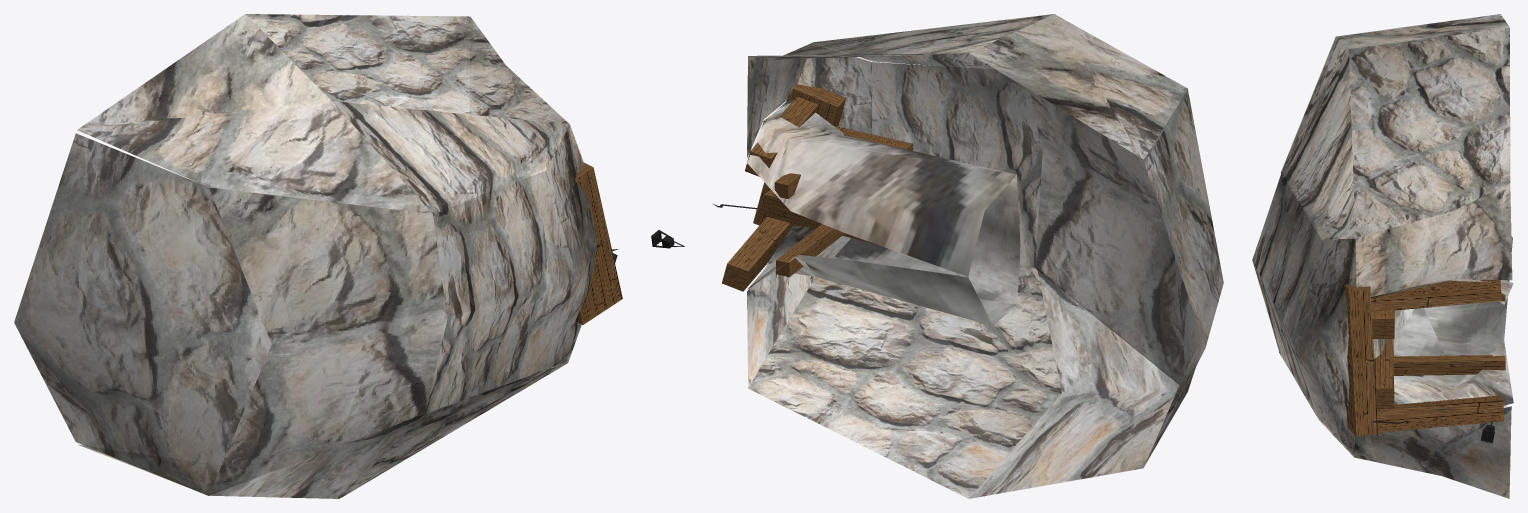
The model's file is mine_000011.obj.
3 views of the same model, side by side, from view 1: azimuth 30°, elevation 25°; view 2: azimuth 150°, elevation 25°; view 3: azimuth 270°, elevation 25° (orthographic). The views are drawn at different scales.
Parts seen in each view (by area): view 1: Cube.010, Cube.009, Cube, Cube.001; view 2: Cube.010, Cube, Cube.009, Cube.003, Cube.001, Cube.006, Cube.002, Cube.004; view 3: Cube.009, Cube.010, Cube, Cube.001, Cube.003, Cube.002, Cube.006, Cube.004, Cube.005.
Boxes of the visible parts, box(x1,y1,x2,y2) form: Cube.010: box(14, 126, 596, 495); Cube.009: box(77, 14, 584, 213); Cube: box(78, 324, 581, 498); Cube.001: box(574, 162, 622, 324); Cube.010: box(747, 57, 1223, 464); Cube: box(747, 267, 1187, 498); Cube.009: box(747, 14, 1187, 159); Cube.003: box(722, 217, 792, 291); Cube.001: box(753, 84, 845, 226); Cube.006: box(776, 224, 844, 277); Cube.002: box(745, 96, 818, 176); Cube.004: box(763, 189, 875, 244); Cube.009: box(1281, 14, 1512, 296); Cube.010: box(1252, 174, 1513, 454); Cube: box(1279, 352, 1511, 498); Cube.001: box(1344, 284, 1378, 436); Cube.003: box(1377, 395, 1504, 432); Cube.002: box(1371, 279, 1501, 311); Cube.006: box(1394, 355, 1505, 375); Cube.004: box(1374, 339, 1394, 408); Cube.005: box(1372, 309, 1394, 338).
Bounding box in the file's own units: 9.35 × 7.15 × 4.01.
